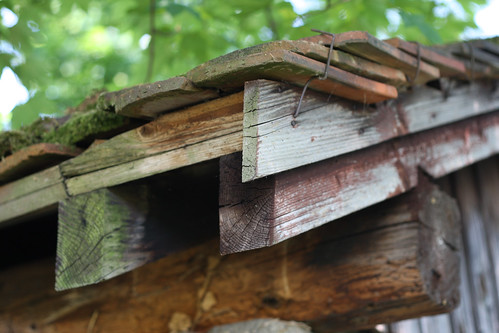building: (1, 25, 498, 333)
